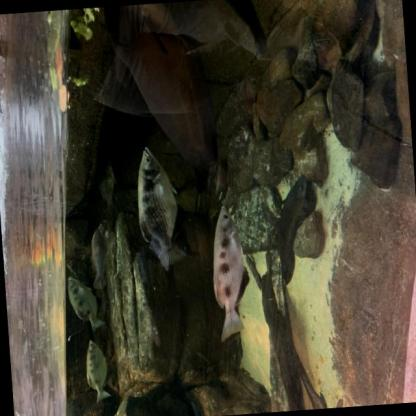fish: (132, 142, 189, 272), (206, 203, 252, 344), (66, 274, 106, 334), (87, 219, 116, 292), (83, 336, 113, 406)
